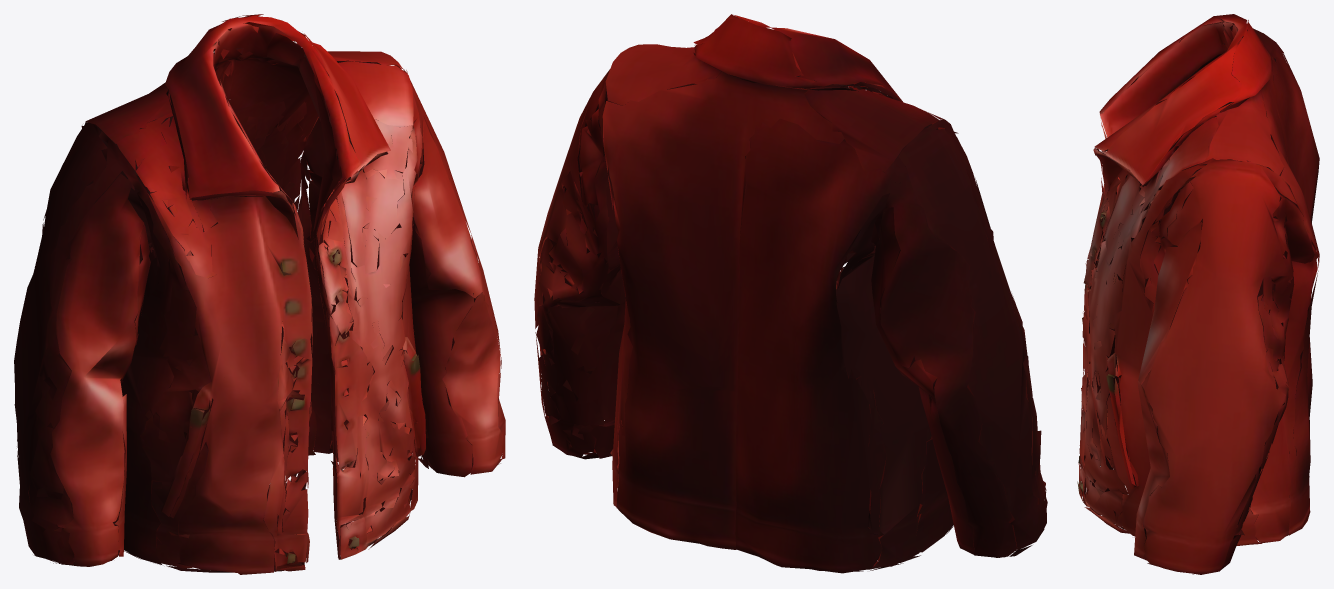
The model's file is chaqueta_diego.glb.
The picture shows the model from 3 angles, left to right: view 1: azimuth 30°, elevation 25°; view 2: azimuth 150°, elevation 25°; view 3: azimuth 270°, elevation 25°; orthographic projection. The views are drawn at different scales.
Parts seen in each view (by area): view 1: geometry_0; view 2: geometry_0; view 3: geometry_0.
Boxes of the visible parts, x1,y1,x2,y2 form: geometry_0: (14,14,505,574); geometry_0: (534,14,1047,573); geometry_0: (1077,14,1319,574).
Size of the model in its own units: 1.01 by 1 by 0.4771.
1 material, 1 textured.
